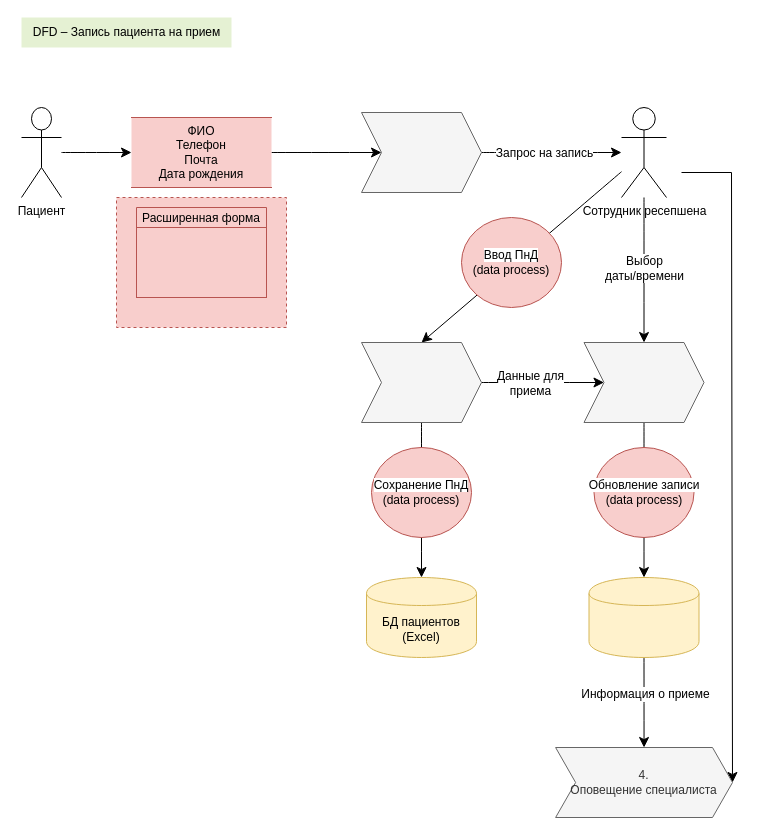
Some shapes in this 760 by 835 pixel diagram are drawn without their labels. Here are the shapes that lost their labels. From the top down, the centre of each, then its label:
[421,152]: 1. Прием заявки
[201,262]: Адрес прописки Место работы/учебы Заболевания
[421,382]: 2. Регистрация пациента
[643,382]: 3. Планирование расписания
[643,617]: Журнал записи к специалистам
